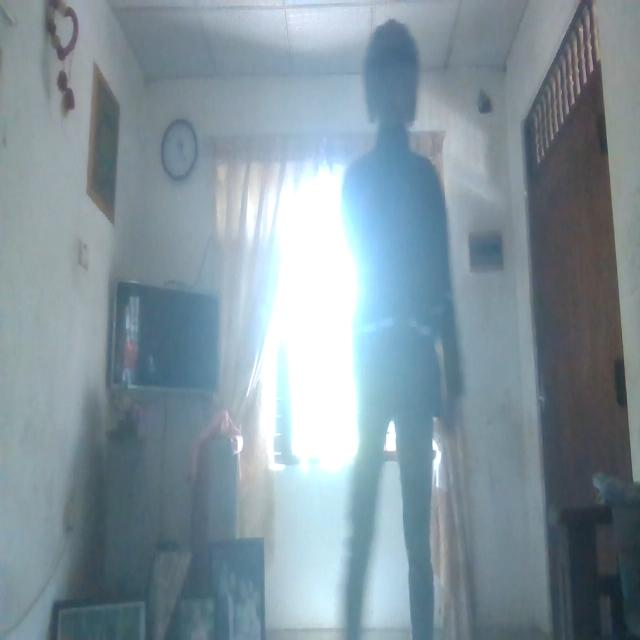Helmet_Wearer: (360, 30, 424, 134)
Jacket_Wearer: (337, 147, 464, 464)
Person: (331, 19, 467, 640)
